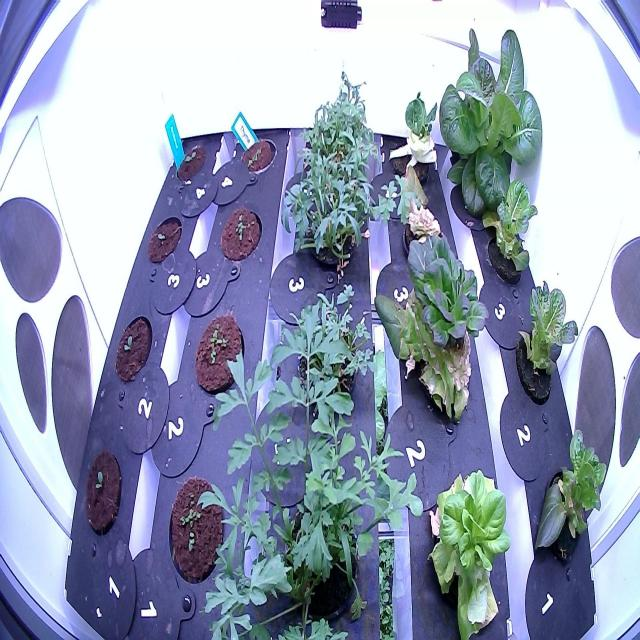Ready: (434, 14, 553, 234)
germination: (165, 464, 233, 586), (190, 307, 250, 403), (78, 440, 130, 546), (108, 308, 157, 392), (215, 198, 265, 266), (143, 205, 185, 278), (234, 129, 278, 186), (172, 138, 213, 192)
